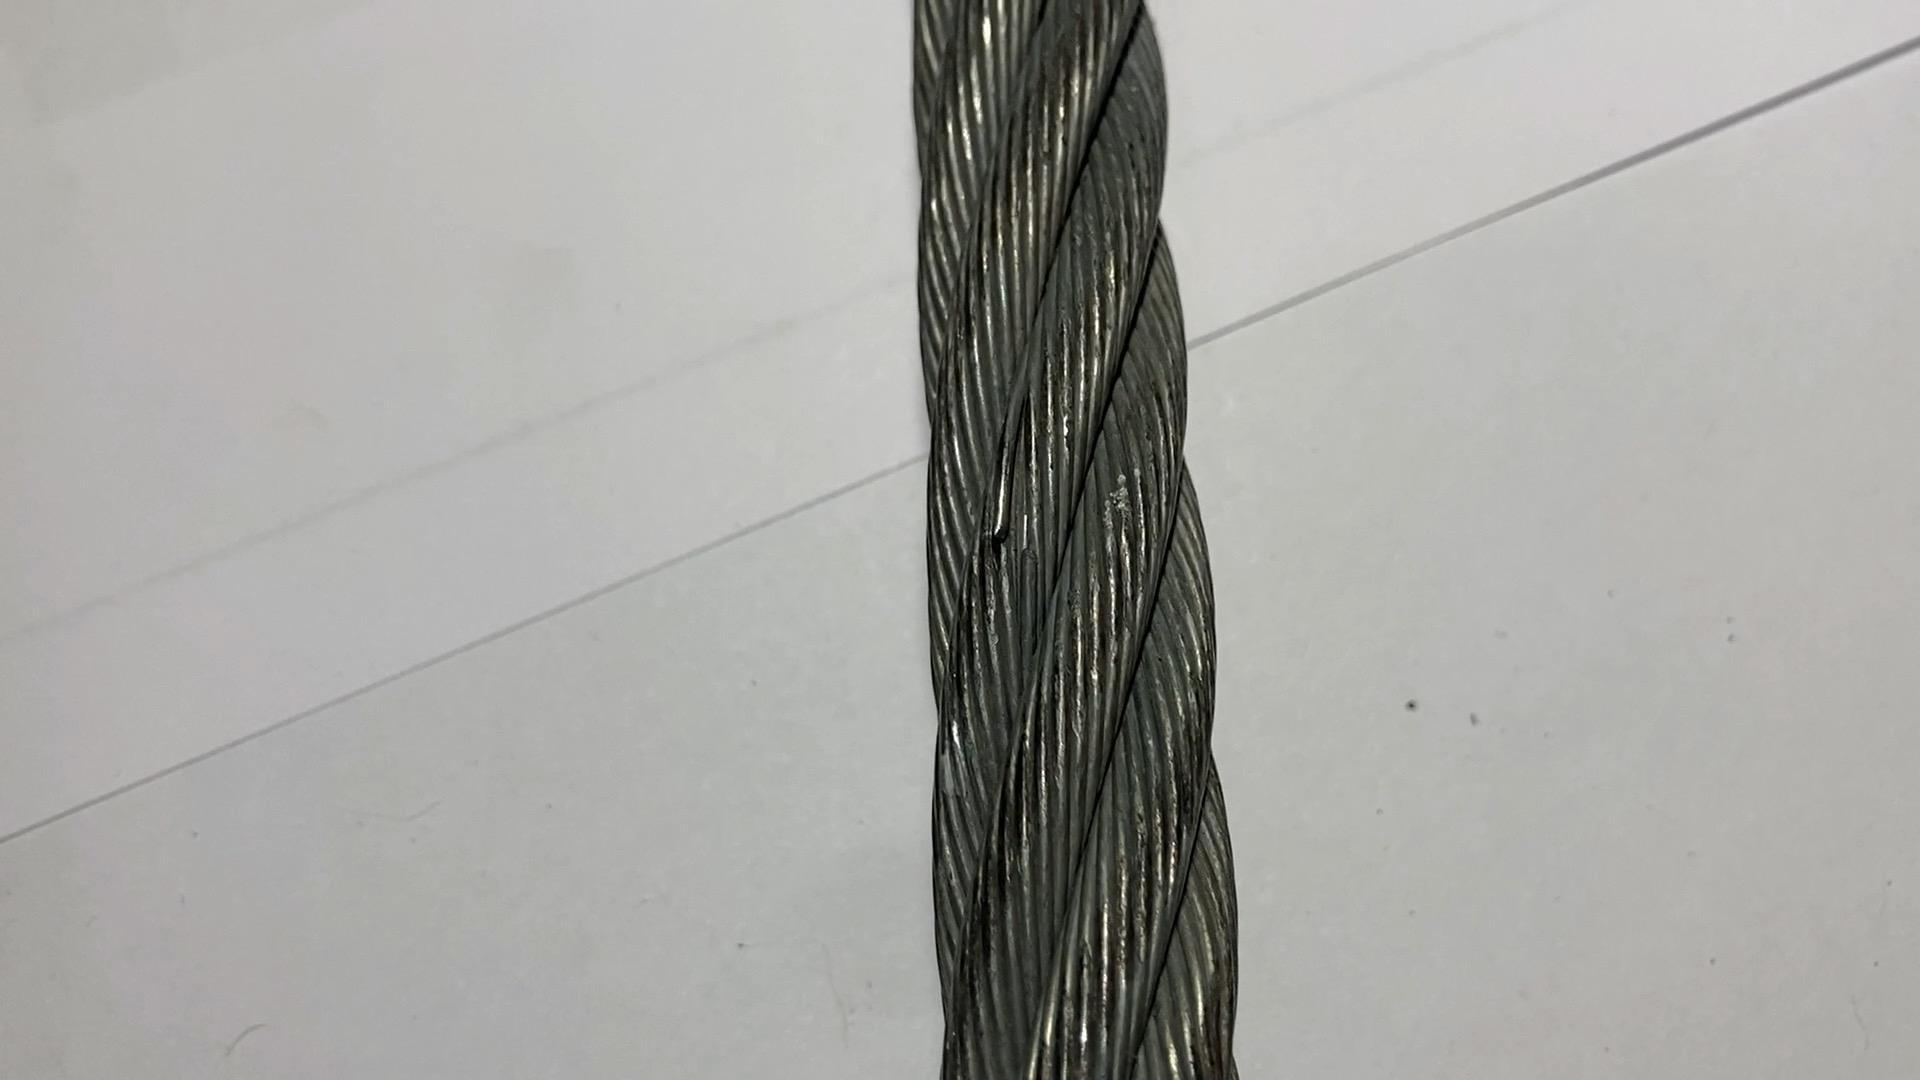break: (968, 497, 1031, 563)
